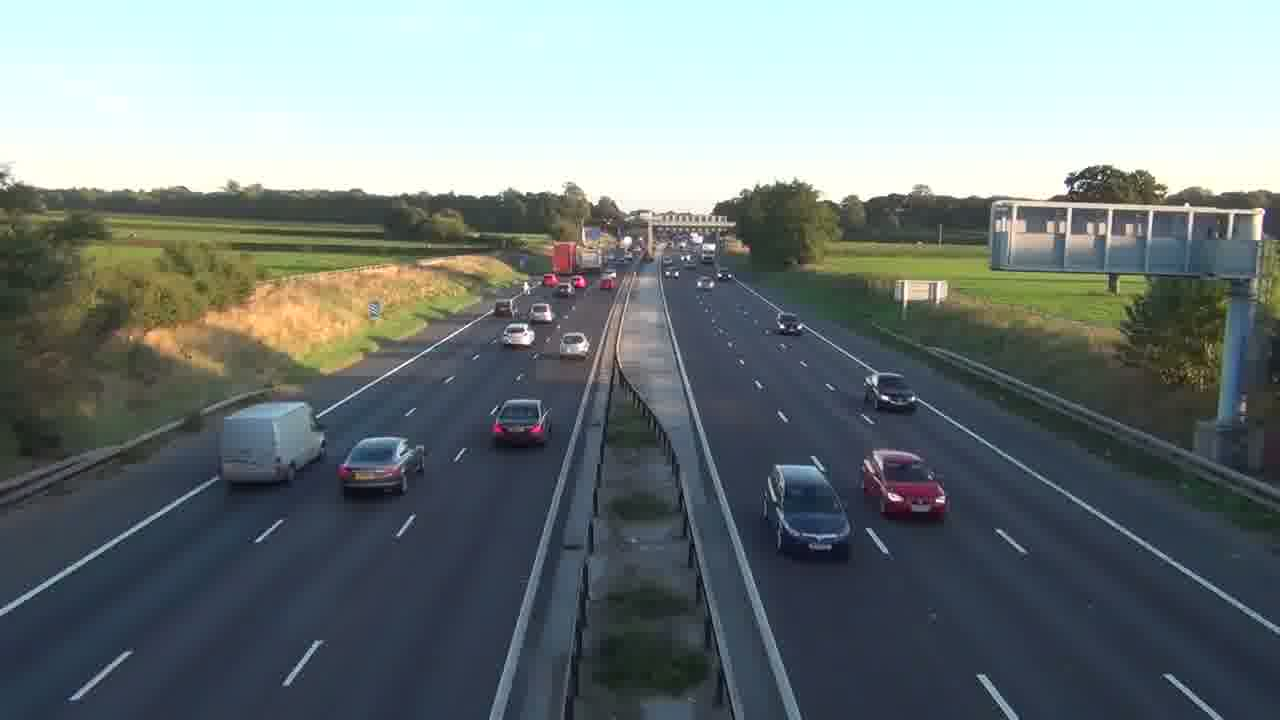car: (762, 459, 853, 559), (860, 448, 950, 522), (336, 435, 425, 496), (489, 397, 551, 448), (863, 371, 917, 413), (559, 331, 591, 358), (501, 322, 535, 347)
truck: (219, 400, 326, 485)
